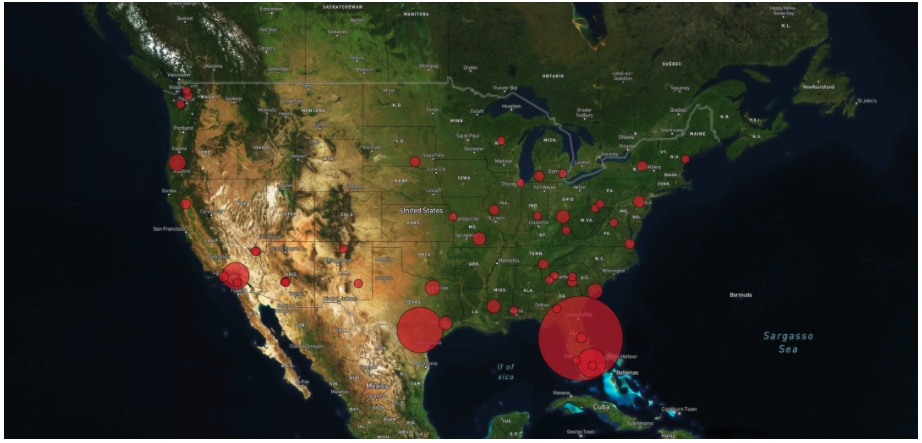

The dashboard page shown, as its layout file describes it:
{"tool":"tableau","page":{"name":"Count and Uncertainty Map Dash","canvas":[1000,800],"ordinal":1},"visuals":[{"type":"blank","box":[8,8,984,112]},{"type":"worksheet","title":"Counts and Uncertainties Map","mark":"Automatic","box":[8,120,984,672]},{"type":"legend","title":"Counts and Uncertainties Map","param":"[federated.1g7iiu116sca3v17ukkhp1reuf1p].[sum:Calculation_1719530699811143702:qk","box":[836,139,140,76]}]}

Visuals, with their boxes on the page's 1000x800 design canvas (x1, y1, x2, y2). These are canvas units, not pixel positions in the 922x443 screenshot, which may show the page scaled, cropped or inside an application window:
blank: x1=8, y1=8, x2=992, y2=120
"Counts and Uncertainties Map" worksheet: x1=8, y1=120, x2=992, y2=792
"Counts and Uncertainties Map" legend: x1=836, y1=139, x2=976, y2=215
